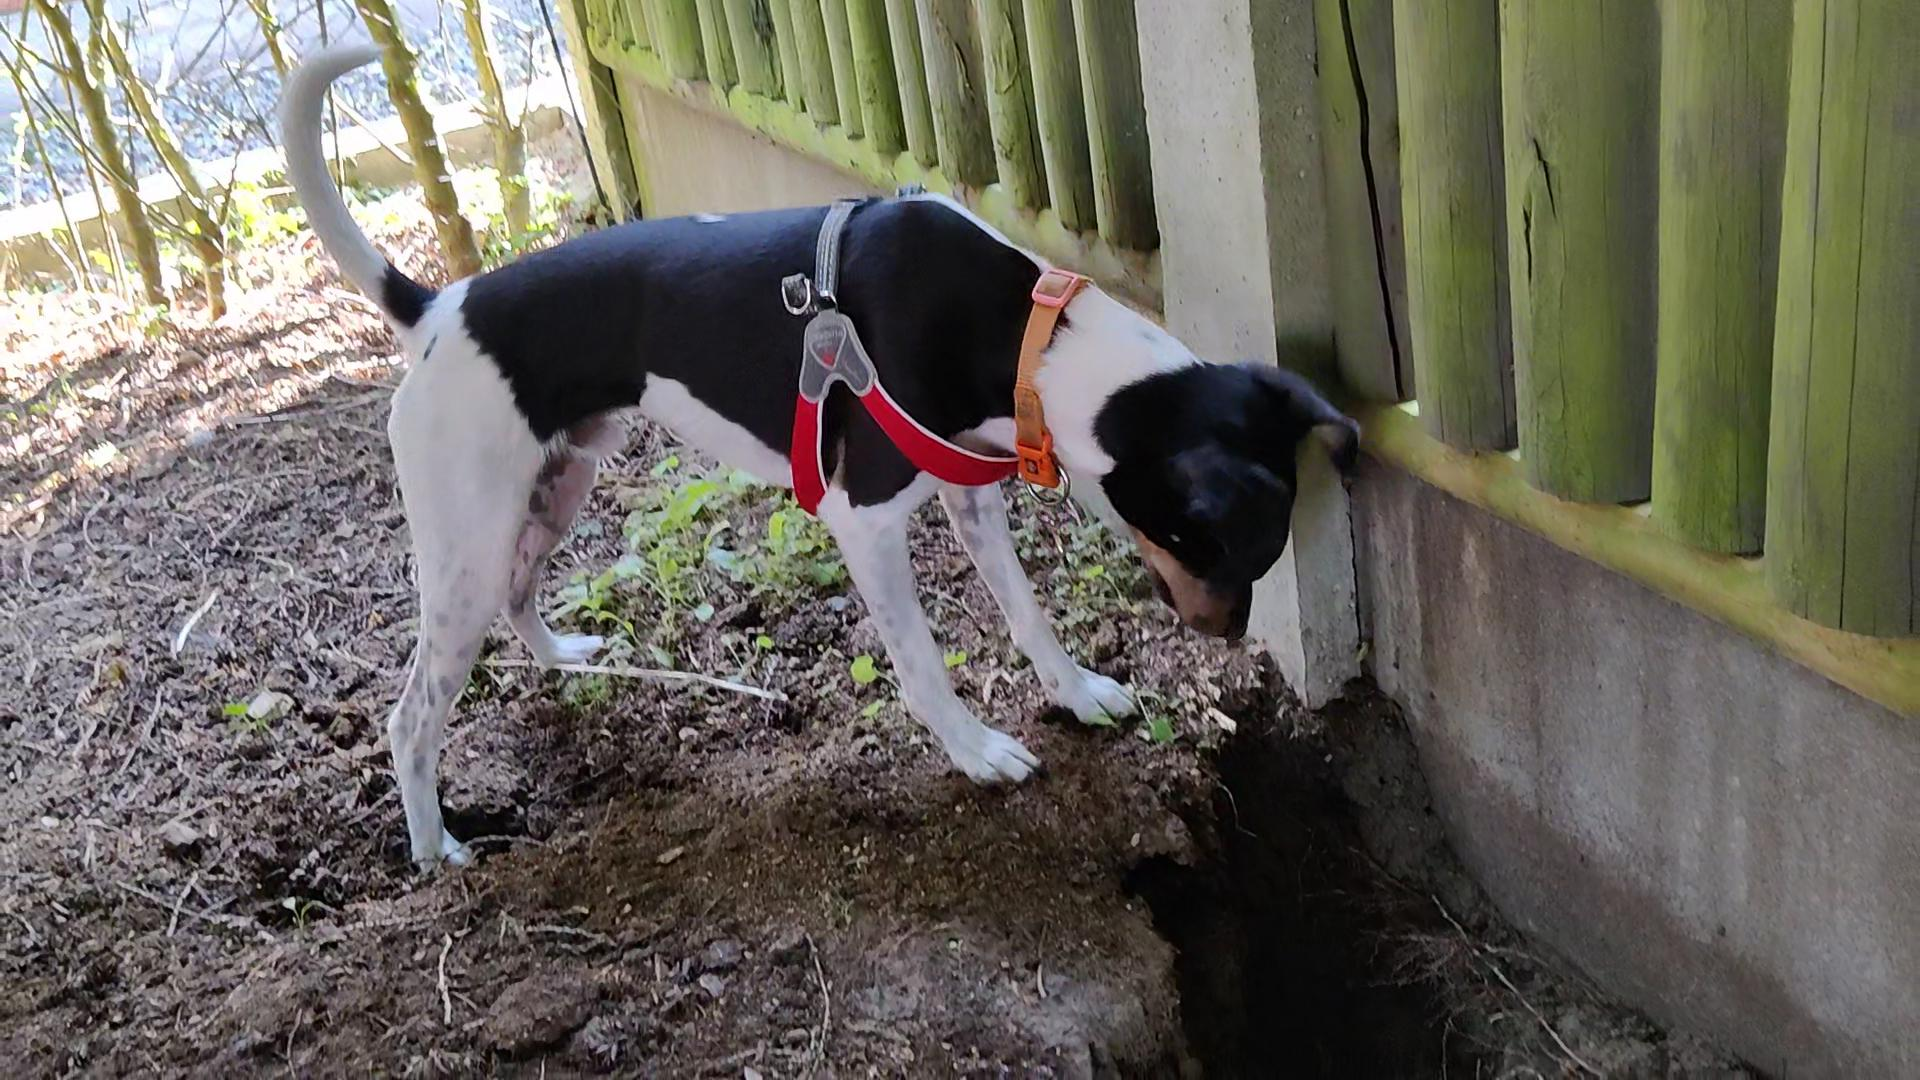Dog: (260, 28, 1375, 882)
